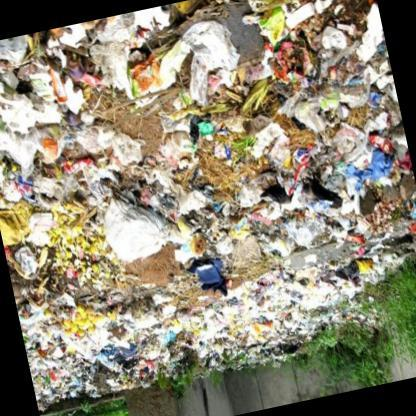Garbage: (0, 0, 415, 405), (217, 0, 411, 231), (0, 210, 101, 336), (308, 84, 396, 186), (0, 45, 87, 144), (255, 150, 334, 238), (140, 30, 256, 85), (110, 197, 169, 268), (80, 124, 140, 182), (178, 310, 236, 366), (4, 232, 53, 298), (153, 172, 221, 218), (270, 256, 320, 316), (0, 81, 28, 174), (215, 294, 262, 342), (3, 138, 42, 190), (335, 237, 382, 278), (81, 351, 125, 390), (243, 309, 283, 346), (28, 348, 63, 389), (269, 0, 302, 40), (192, 330, 220, 364), (60, 188, 86, 219)
